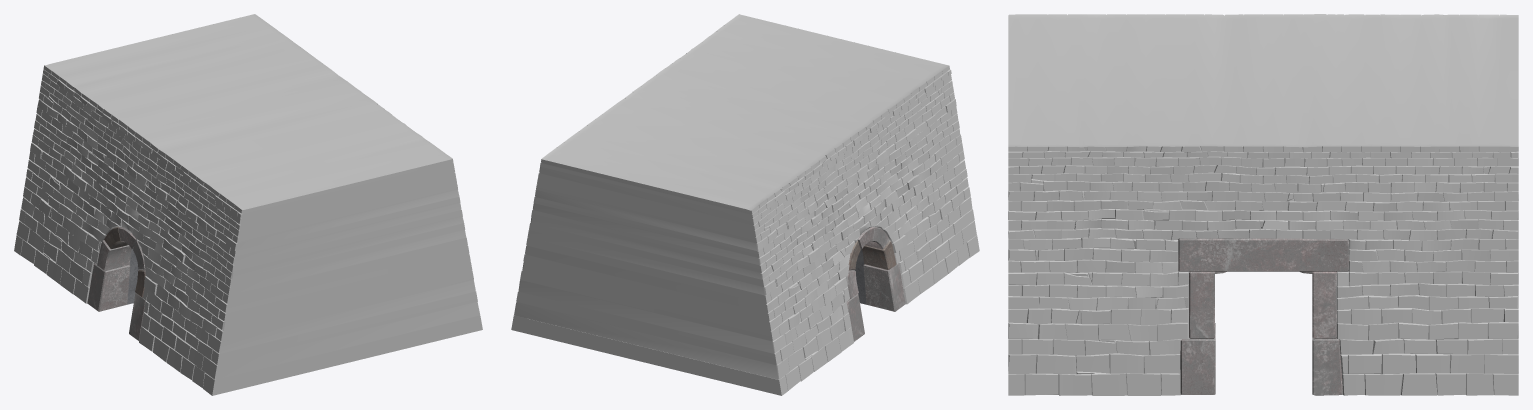
File: SM_Dark_Gate02a.fbx
The picture shows the model from 3 angles, left to right: view 1: azimuth 30°, elevation 25°; view 2: azimuth 150°, elevation 25°; view 3: azimuth 270°, elevation 25°; orthographic projection. The views are drawn at different scales.
Visible parts, largest first — view 1: SM_Dark_Gate02a; view 2: SM_Dark_Gate02a; view 3: SM_Dark_Gate02a.
Part boxes in pixels (x1,y1,x2,y2): SM_Dark_Gate02a: [14, 14, 482, 395]; SM_Dark_Gate02a: [511, 14, 979, 395]; SM_Dark_Gate02a: [1008, 14, 1518, 395].
Bounding box in the file's own units: 634 × 800 × 399.
